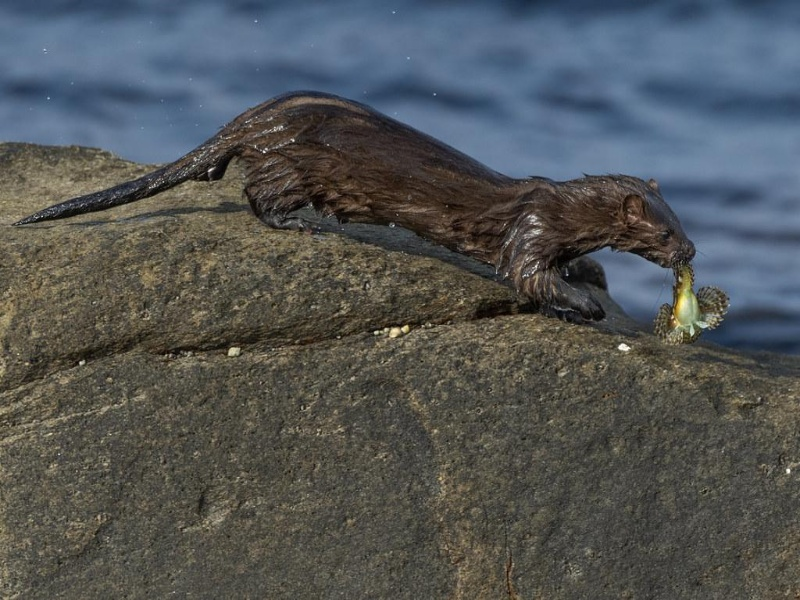minkish: (12, 87, 697, 329)
